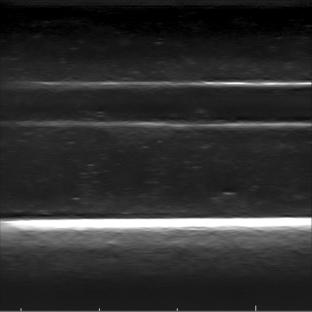vessel: (3, 78, 309, 129)
